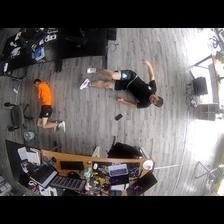fall: (77, 58, 165, 111), (32, 77, 69, 132)
